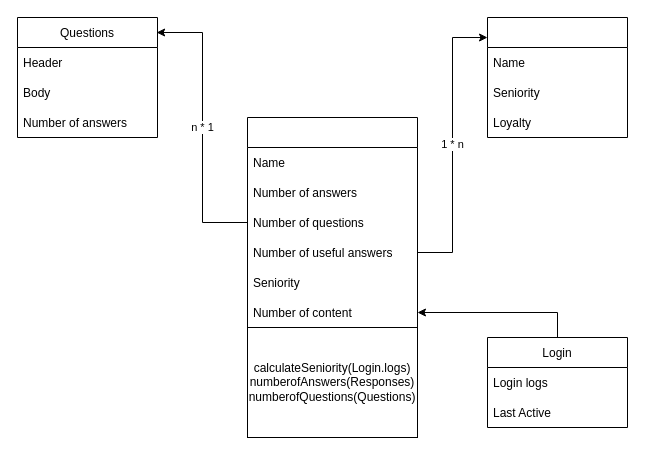
This 645x455 diagram has some shape labels left out. Here are the shapes that lost their labels. From the top down, the box of each, then its label:
(486, 16, 628, 138): Responses
(246, 116, 418, 328): User
